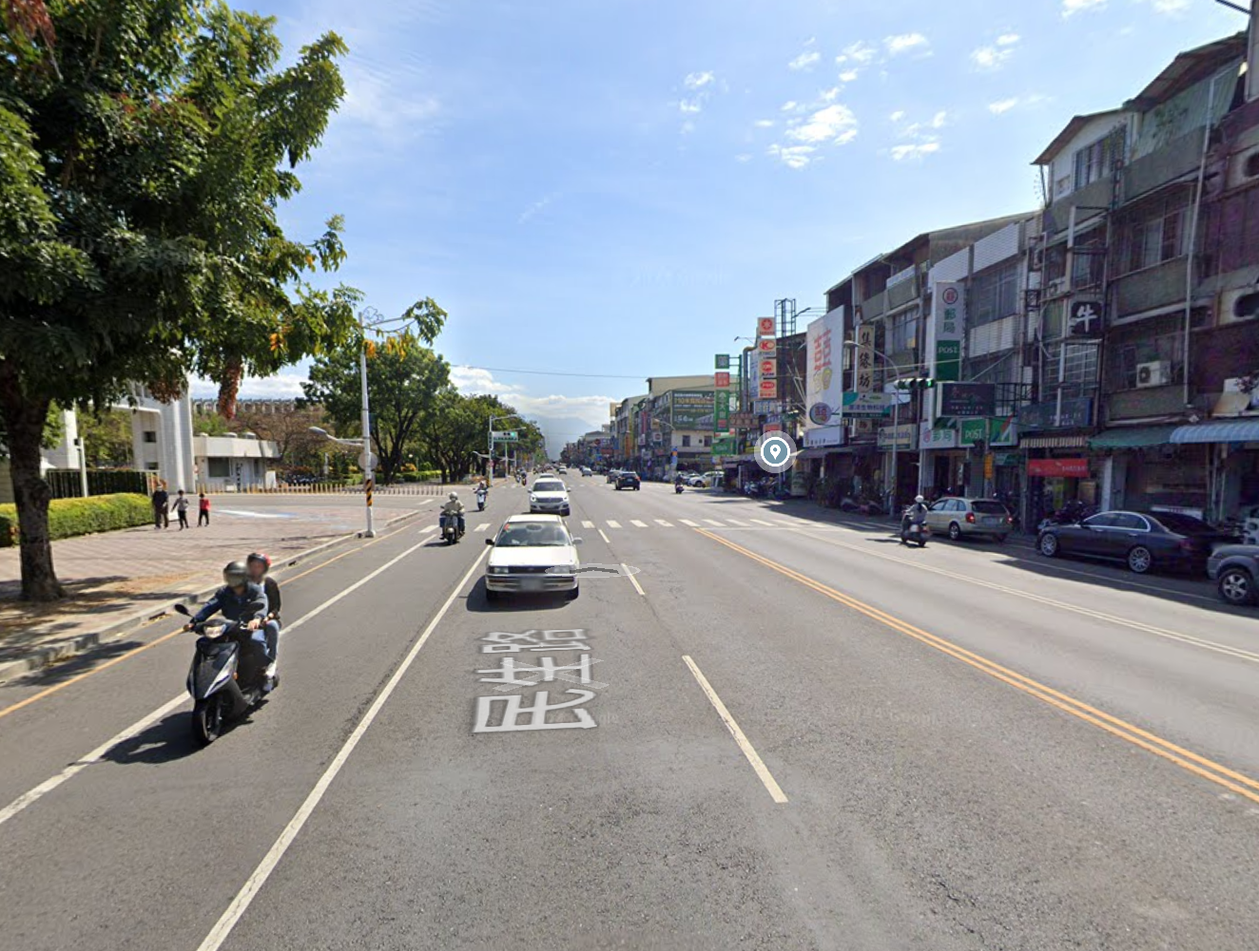green: (899, 376, 939, 390), (497, 429, 517, 439)
